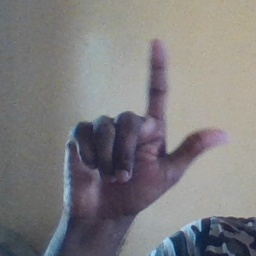L: (58, 37, 229, 217)
